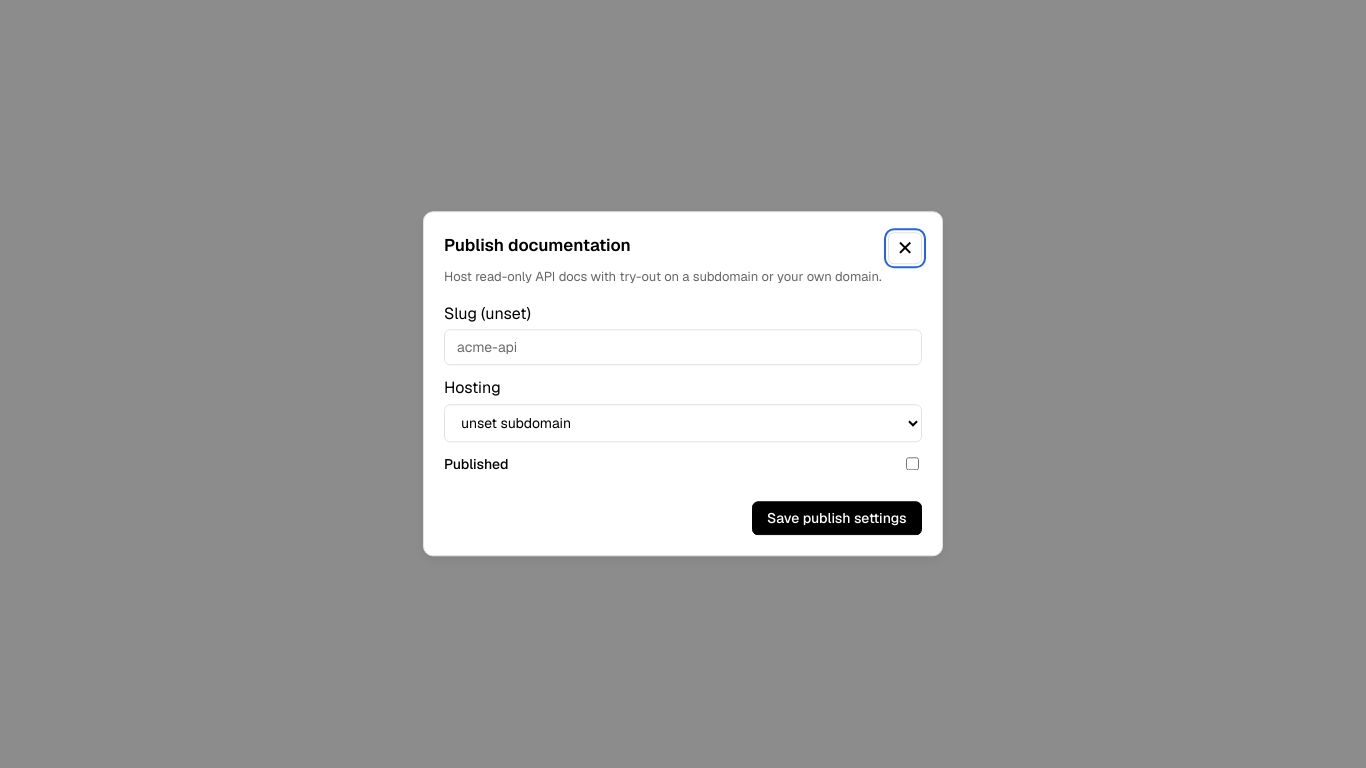
Test: PublishSettings › sends settings without a client-computed public host
Type "acme" into the field with placeholder "acme-api" at (683, 348), box top-left (444, 330), bottom-right (922, 366)
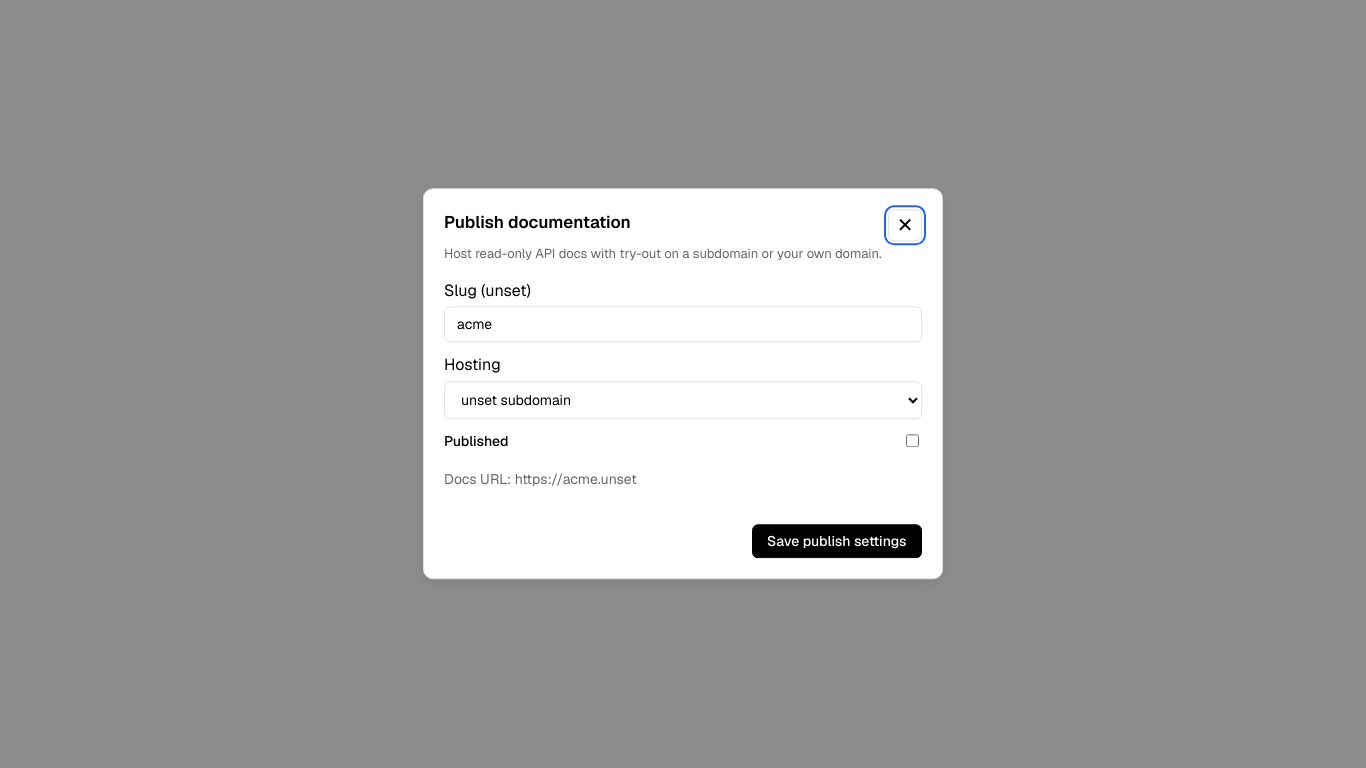
Click the button "Save publish settings" at (837, 542), box top-left (752, 524), bottom-right (922, 559)
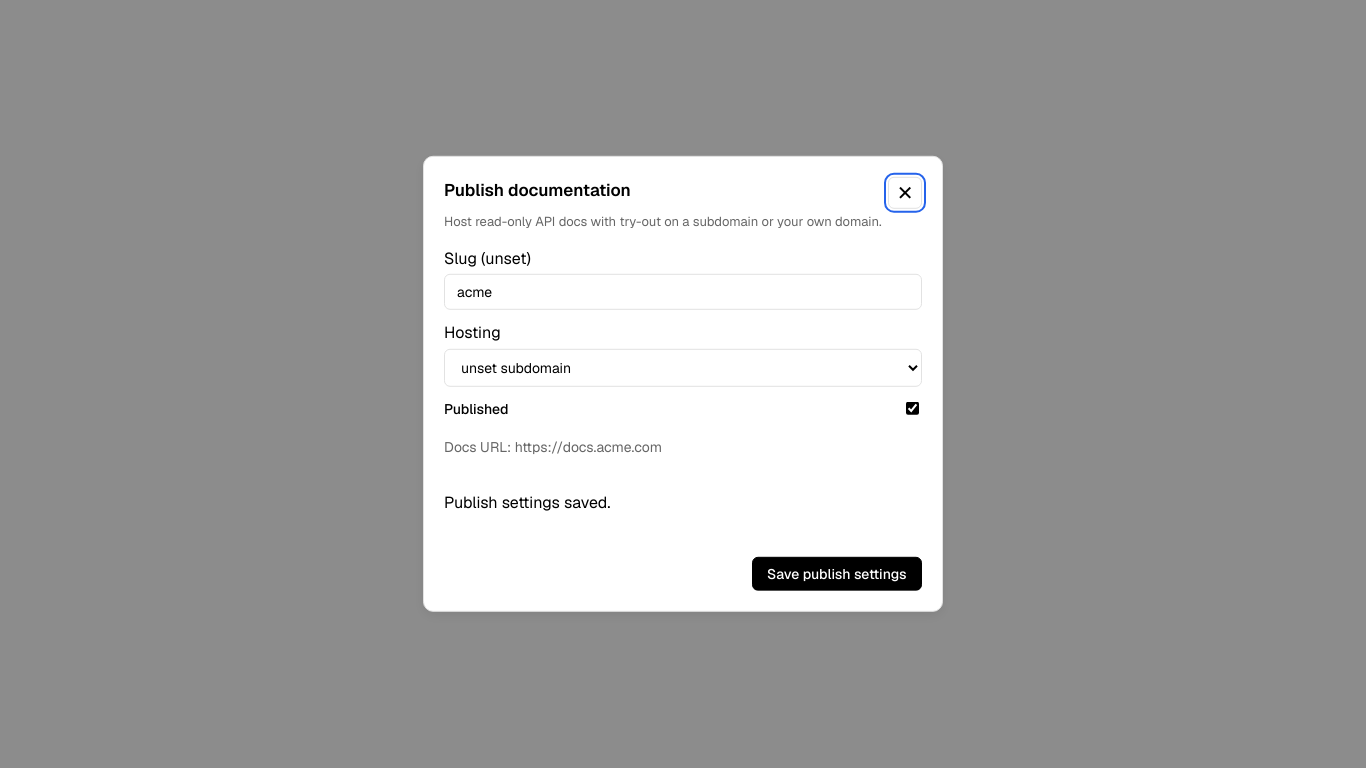
Expected: the text "Publish settings saved." is shown, top-left (444, 492), bottom-right (610, 513)
